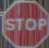Stop: (0, 1, 48, 42)
